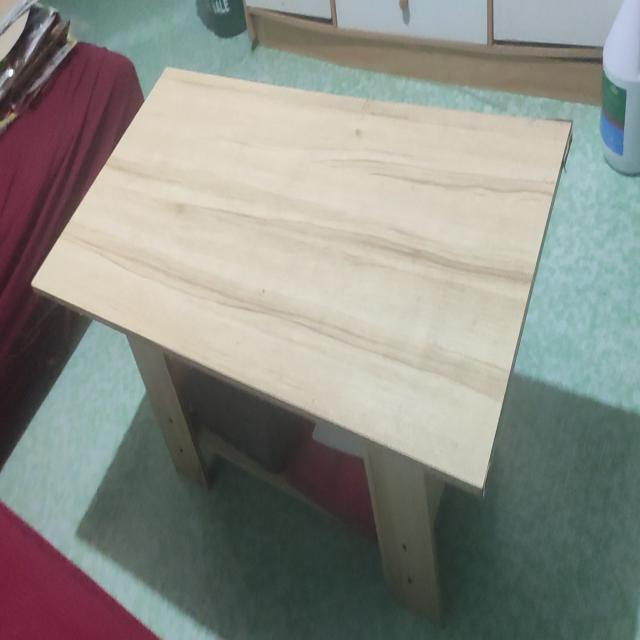table: (26, 64, 584, 640)
